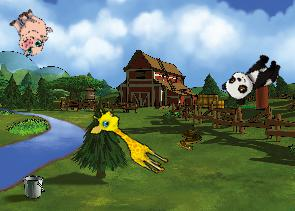giraffe: (84, 104, 176, 177)
panda: (219, 47, 285, 109)
pig: (2, 4, 57, 60)
